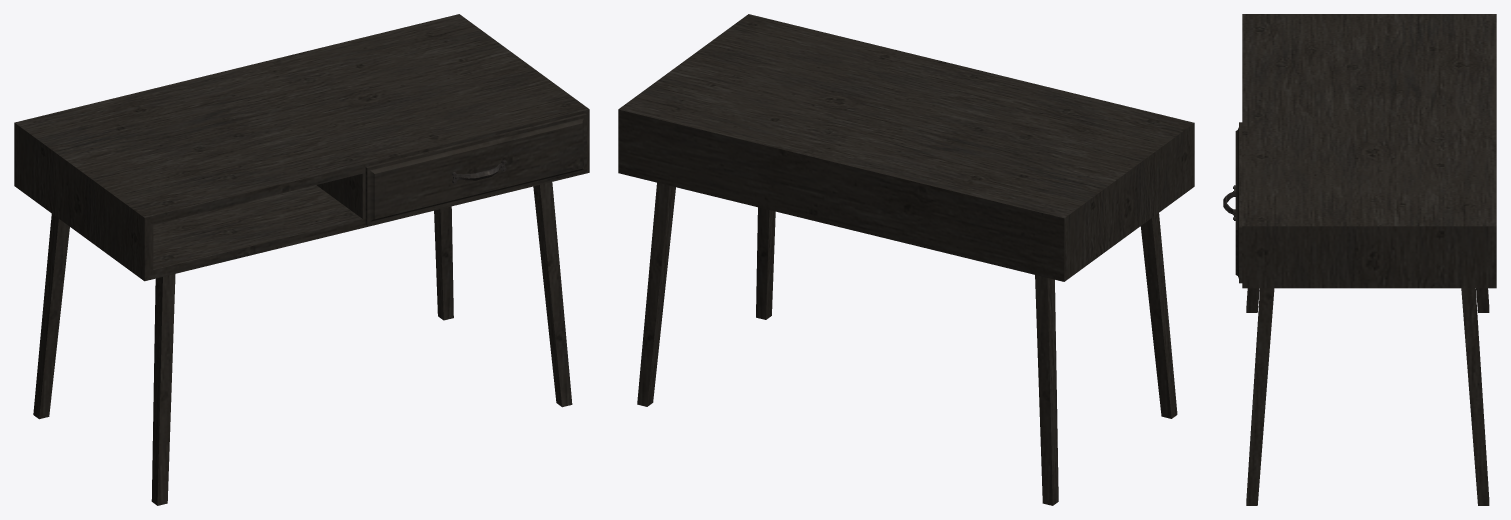
The model's file is tv_table_4.fbx.
The picture shows the model from 3 angles, left to right: view 1: azimuth 30°, elevation 25°; view 2: azimuth 150°, elevation 25°; view 3: azimuth 270°, elevation 25°; orthographic projection. The views are drawn at different scales.
Parts seen in each view (by area): view 1: tv_table_4, tv_table_4_drawer; view 2: tv_table_4; view 3: tv_table_4, tv_table_4_drawer.
Boxes of the visible parts, x1=… form: tv_table_4: x1=14, y1=14, x2=589, y2=505; tv_table_4_drawer: x1=365, y1=113, x2=586, y2=225; tv_table_4: x1=618, y1=14, x2=1194, y2=505; tv_table_4: x1=1242, y1=14, x2=1496, y2=505; tv_table_4_drawer: x1=1223, y1=122, x2=1242, y2=283.
Bounding box in the file's own units: 1.54 × 0.8383 × 0.97.
